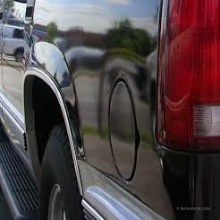no damage: (2, 2, 217, 215)
